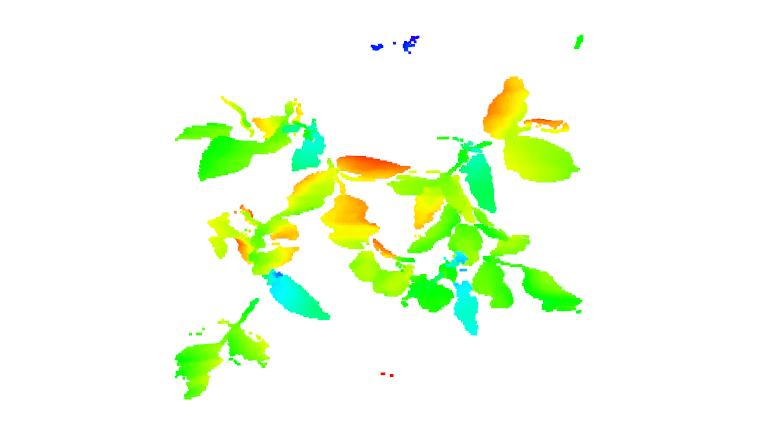mungbean: (179, 90, 410, 249), (391, 66, 582, 228), (351, 218, 594, 335), (168, 244, 331, 399)
